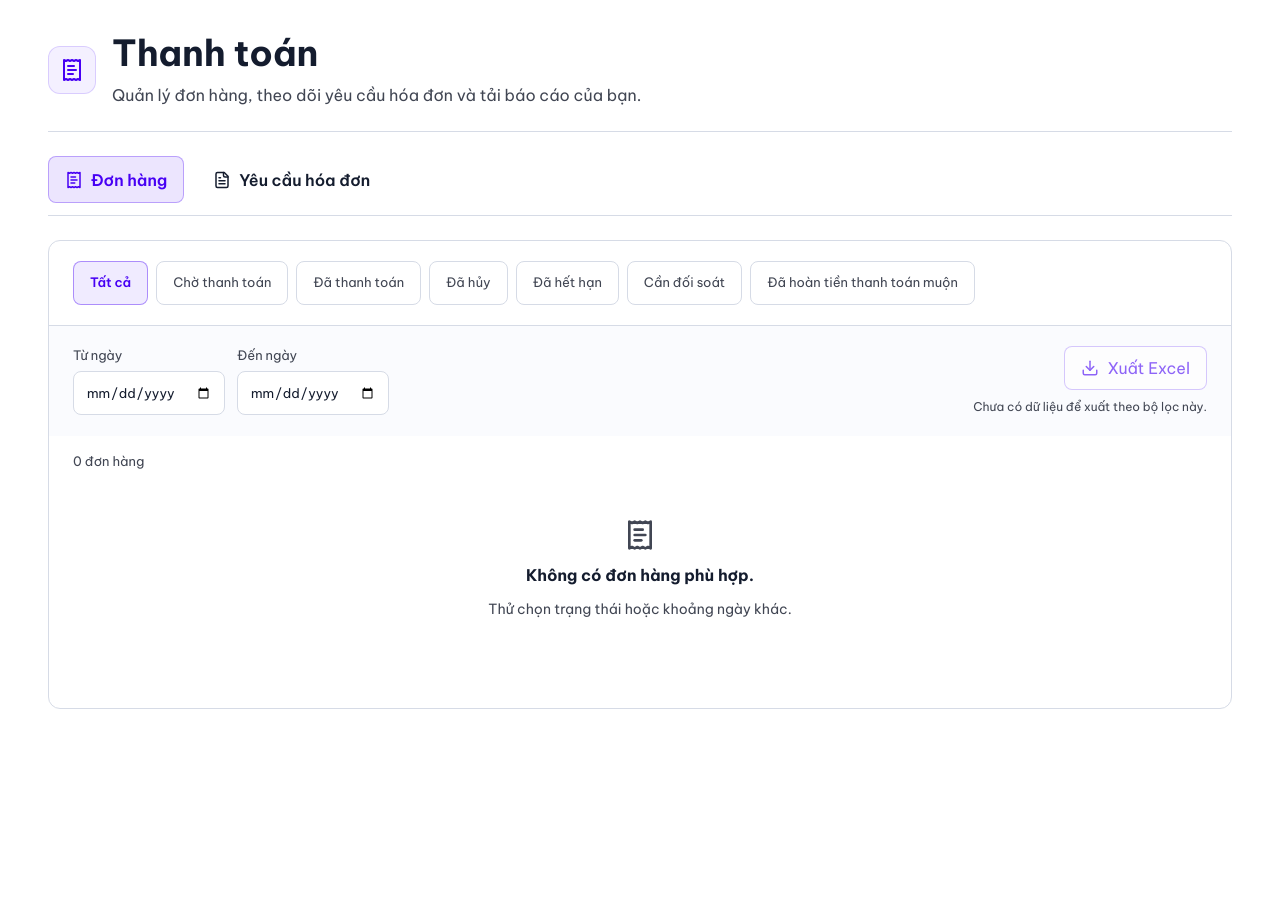
Test: GDS account settings and billing › requests status/date filters from the server and exposes empty invoice history
Check: the heading "Không có đơn hàng phù hợp." is shown, box [526,564,754,588]
Click the button "Đã thanh toán".
click(359, 283)  # box [296,261,421,305]
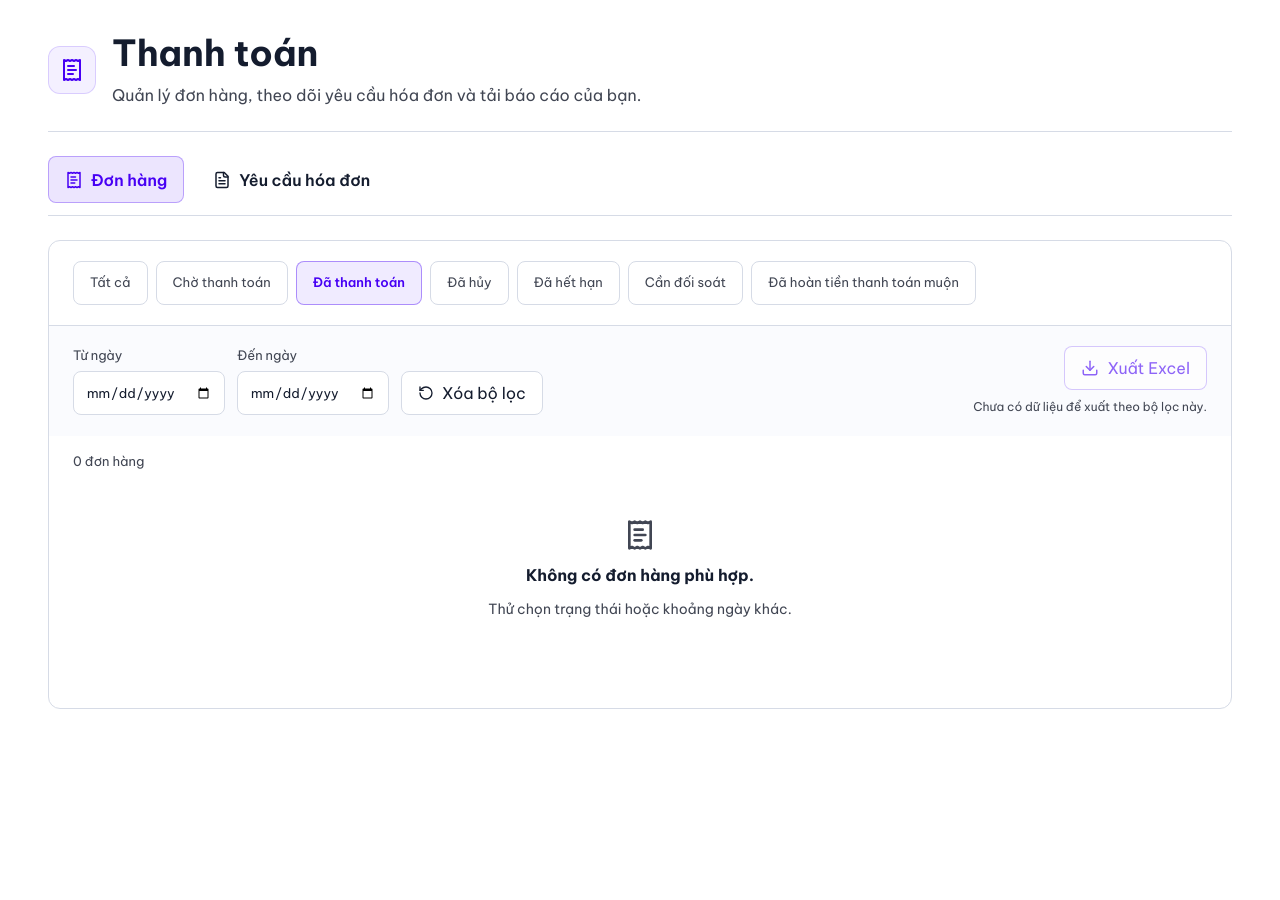
Click the button "Yêu cầu hóa đơn".
click(292, 180)  # box [196,156,387,203]
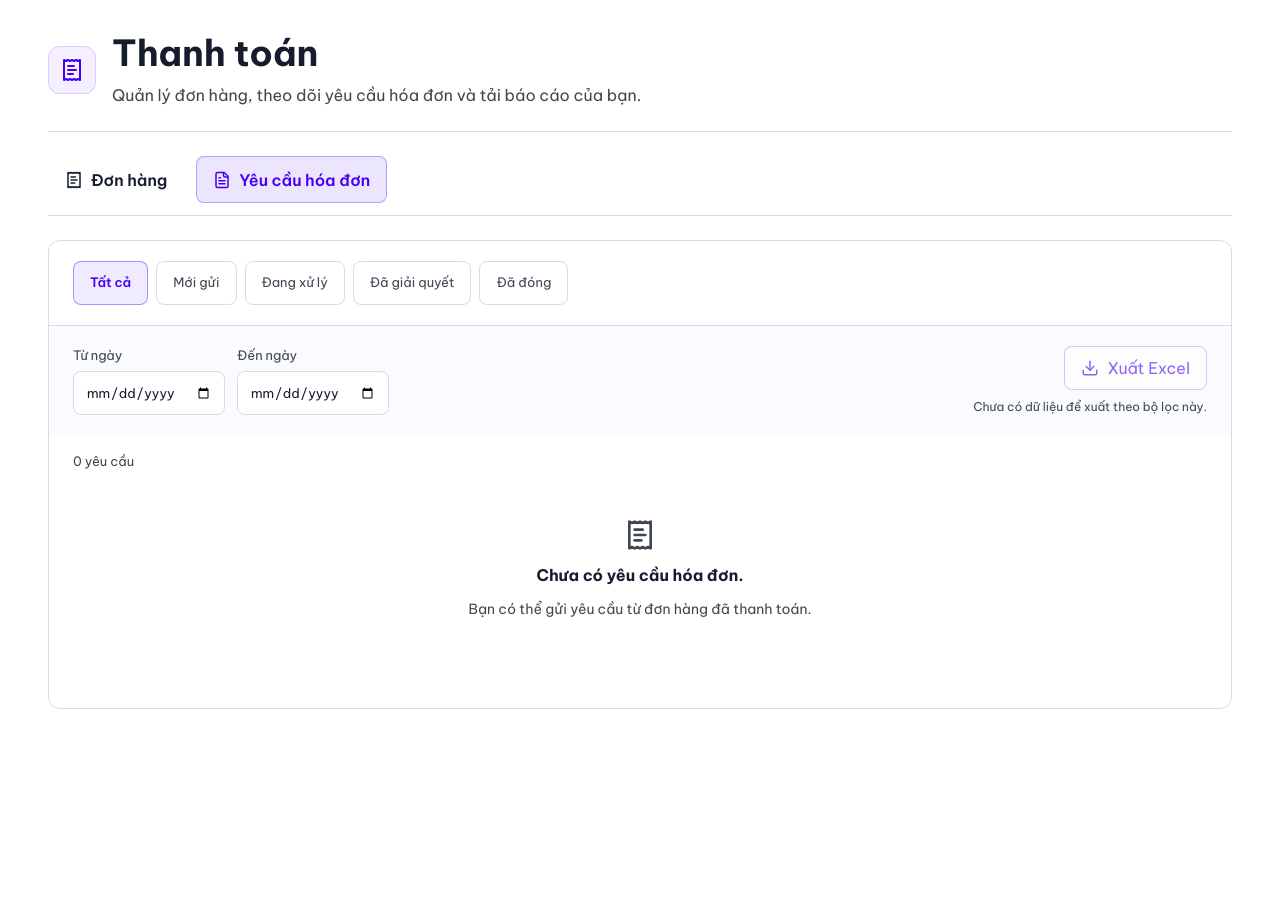
Check: the heading "Chưa có yêu cầu hóa đơn." is shown, box [536,564,744,588]
